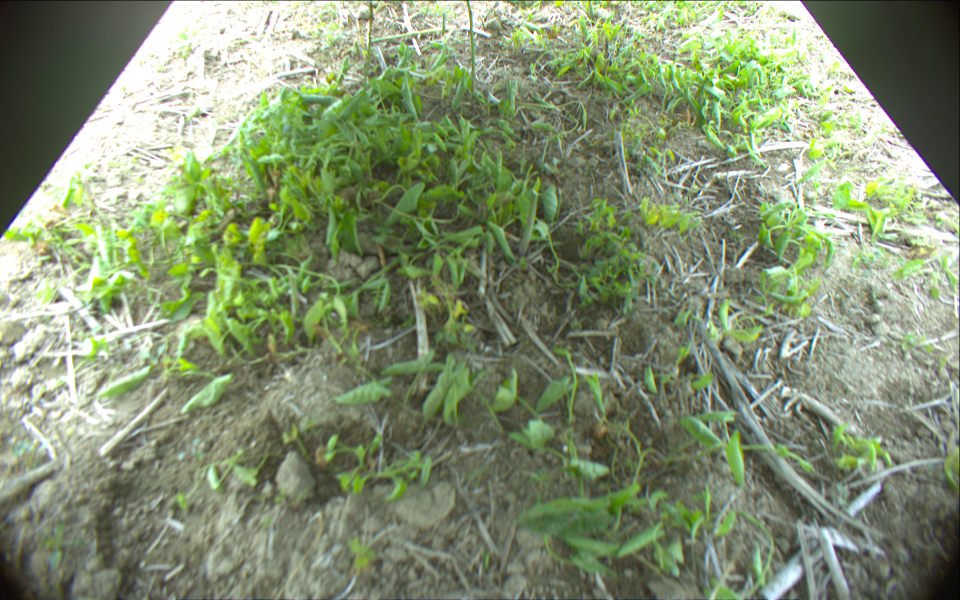aspa: (374, 24, 492, 44), (517, 185, 539, 258), (618, 131, 632, 195), (465, 1, 474, 94), (364, 4, 372, 71), (442, 10, 447, 37)
